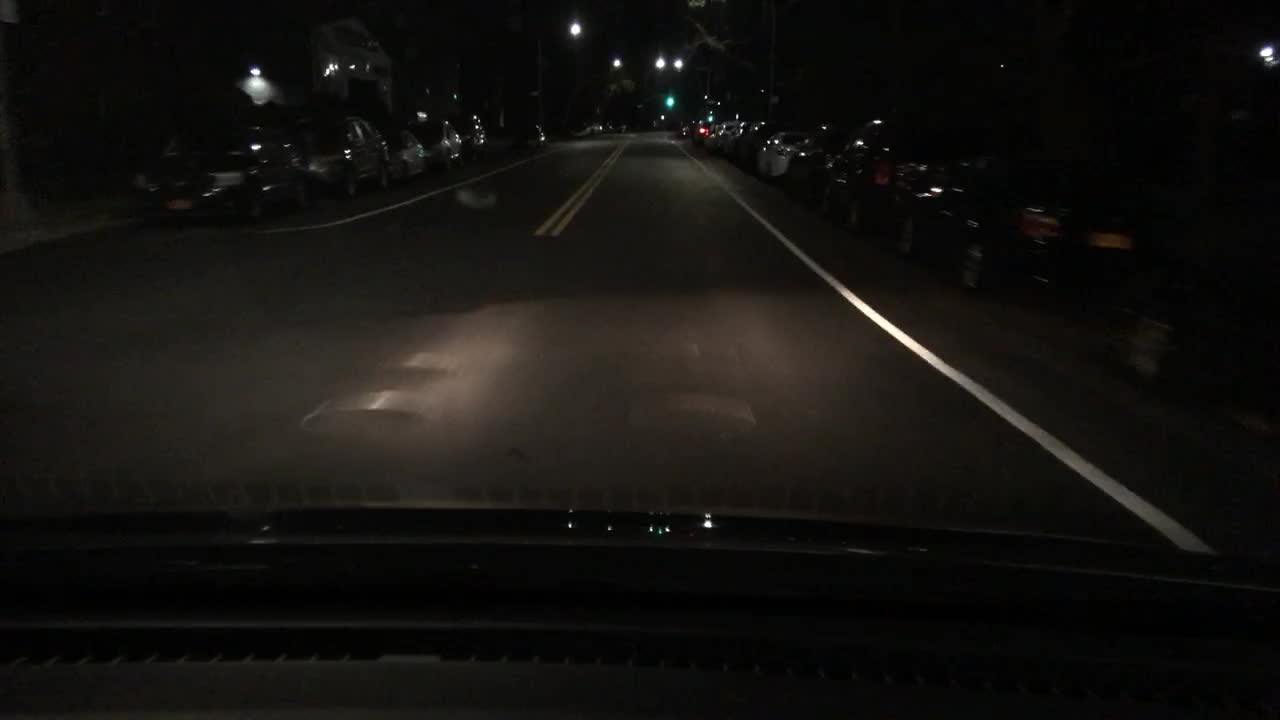car: (907, 139, 1179, 314), (132, 117, 304, 224), (825, 114, 937, 236), (293, 113, 383, 198), (789, 139, 867, 190), (756, 131, 818, 174), (409, 118, 457, 165), (725, 123, 780, 163), (387, 126, 428, 179), (449, 111, 486, 161), (706, 121, 747, 150), (513, 124, 548, 150), (691, 119, 706, 143), (678, 122, 689, 136)
traffic light: (665, 92, 675, 111)
